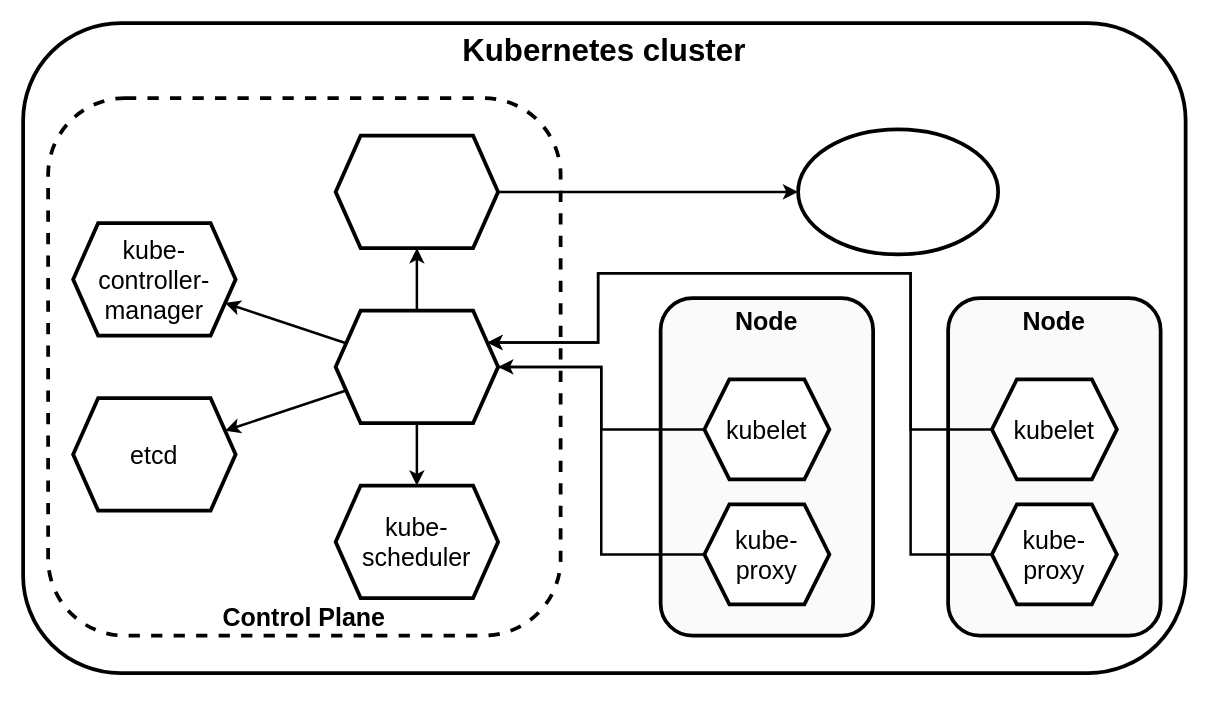
Image size: 1209x726. Some labels were removed from this diagram. The shapes that lost their labels are listed below. From the top down, each one's centre as x and y in pixels, then its label:
[416,191]: cloud-controller-manager
[897,191]: Cloud provider API
[416,366]: kube-apiserver
